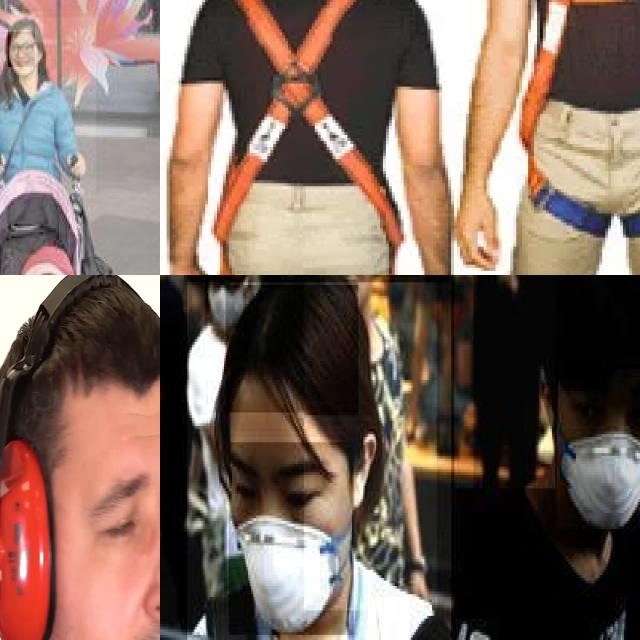Ear-protection: (0, 275, 160, 640)
Harness: (215, 0, 403, 275), (519, 0, 640, 238)
face_mask: (228, 442, 354, 635), (556, 369, 640, 529), (204, 275, 246, 328)
face_nomask: (319, 275, 374, 306), (8, 32, 36, 69)
hand_noglove: (64, 150, 88, 180), (0, 146, 9, 175)
head_nohelmet: (225, 285, 358, 415), (555, 275, 640, 366), (10, 11, 44, 44)
person: (187, 282, 452, 640), (473, 275, 640, 640), (303, 275, 438, 613), (454, 275, 556, 491), (0, 17, 97, 198), (160, 275, 207, 637)
